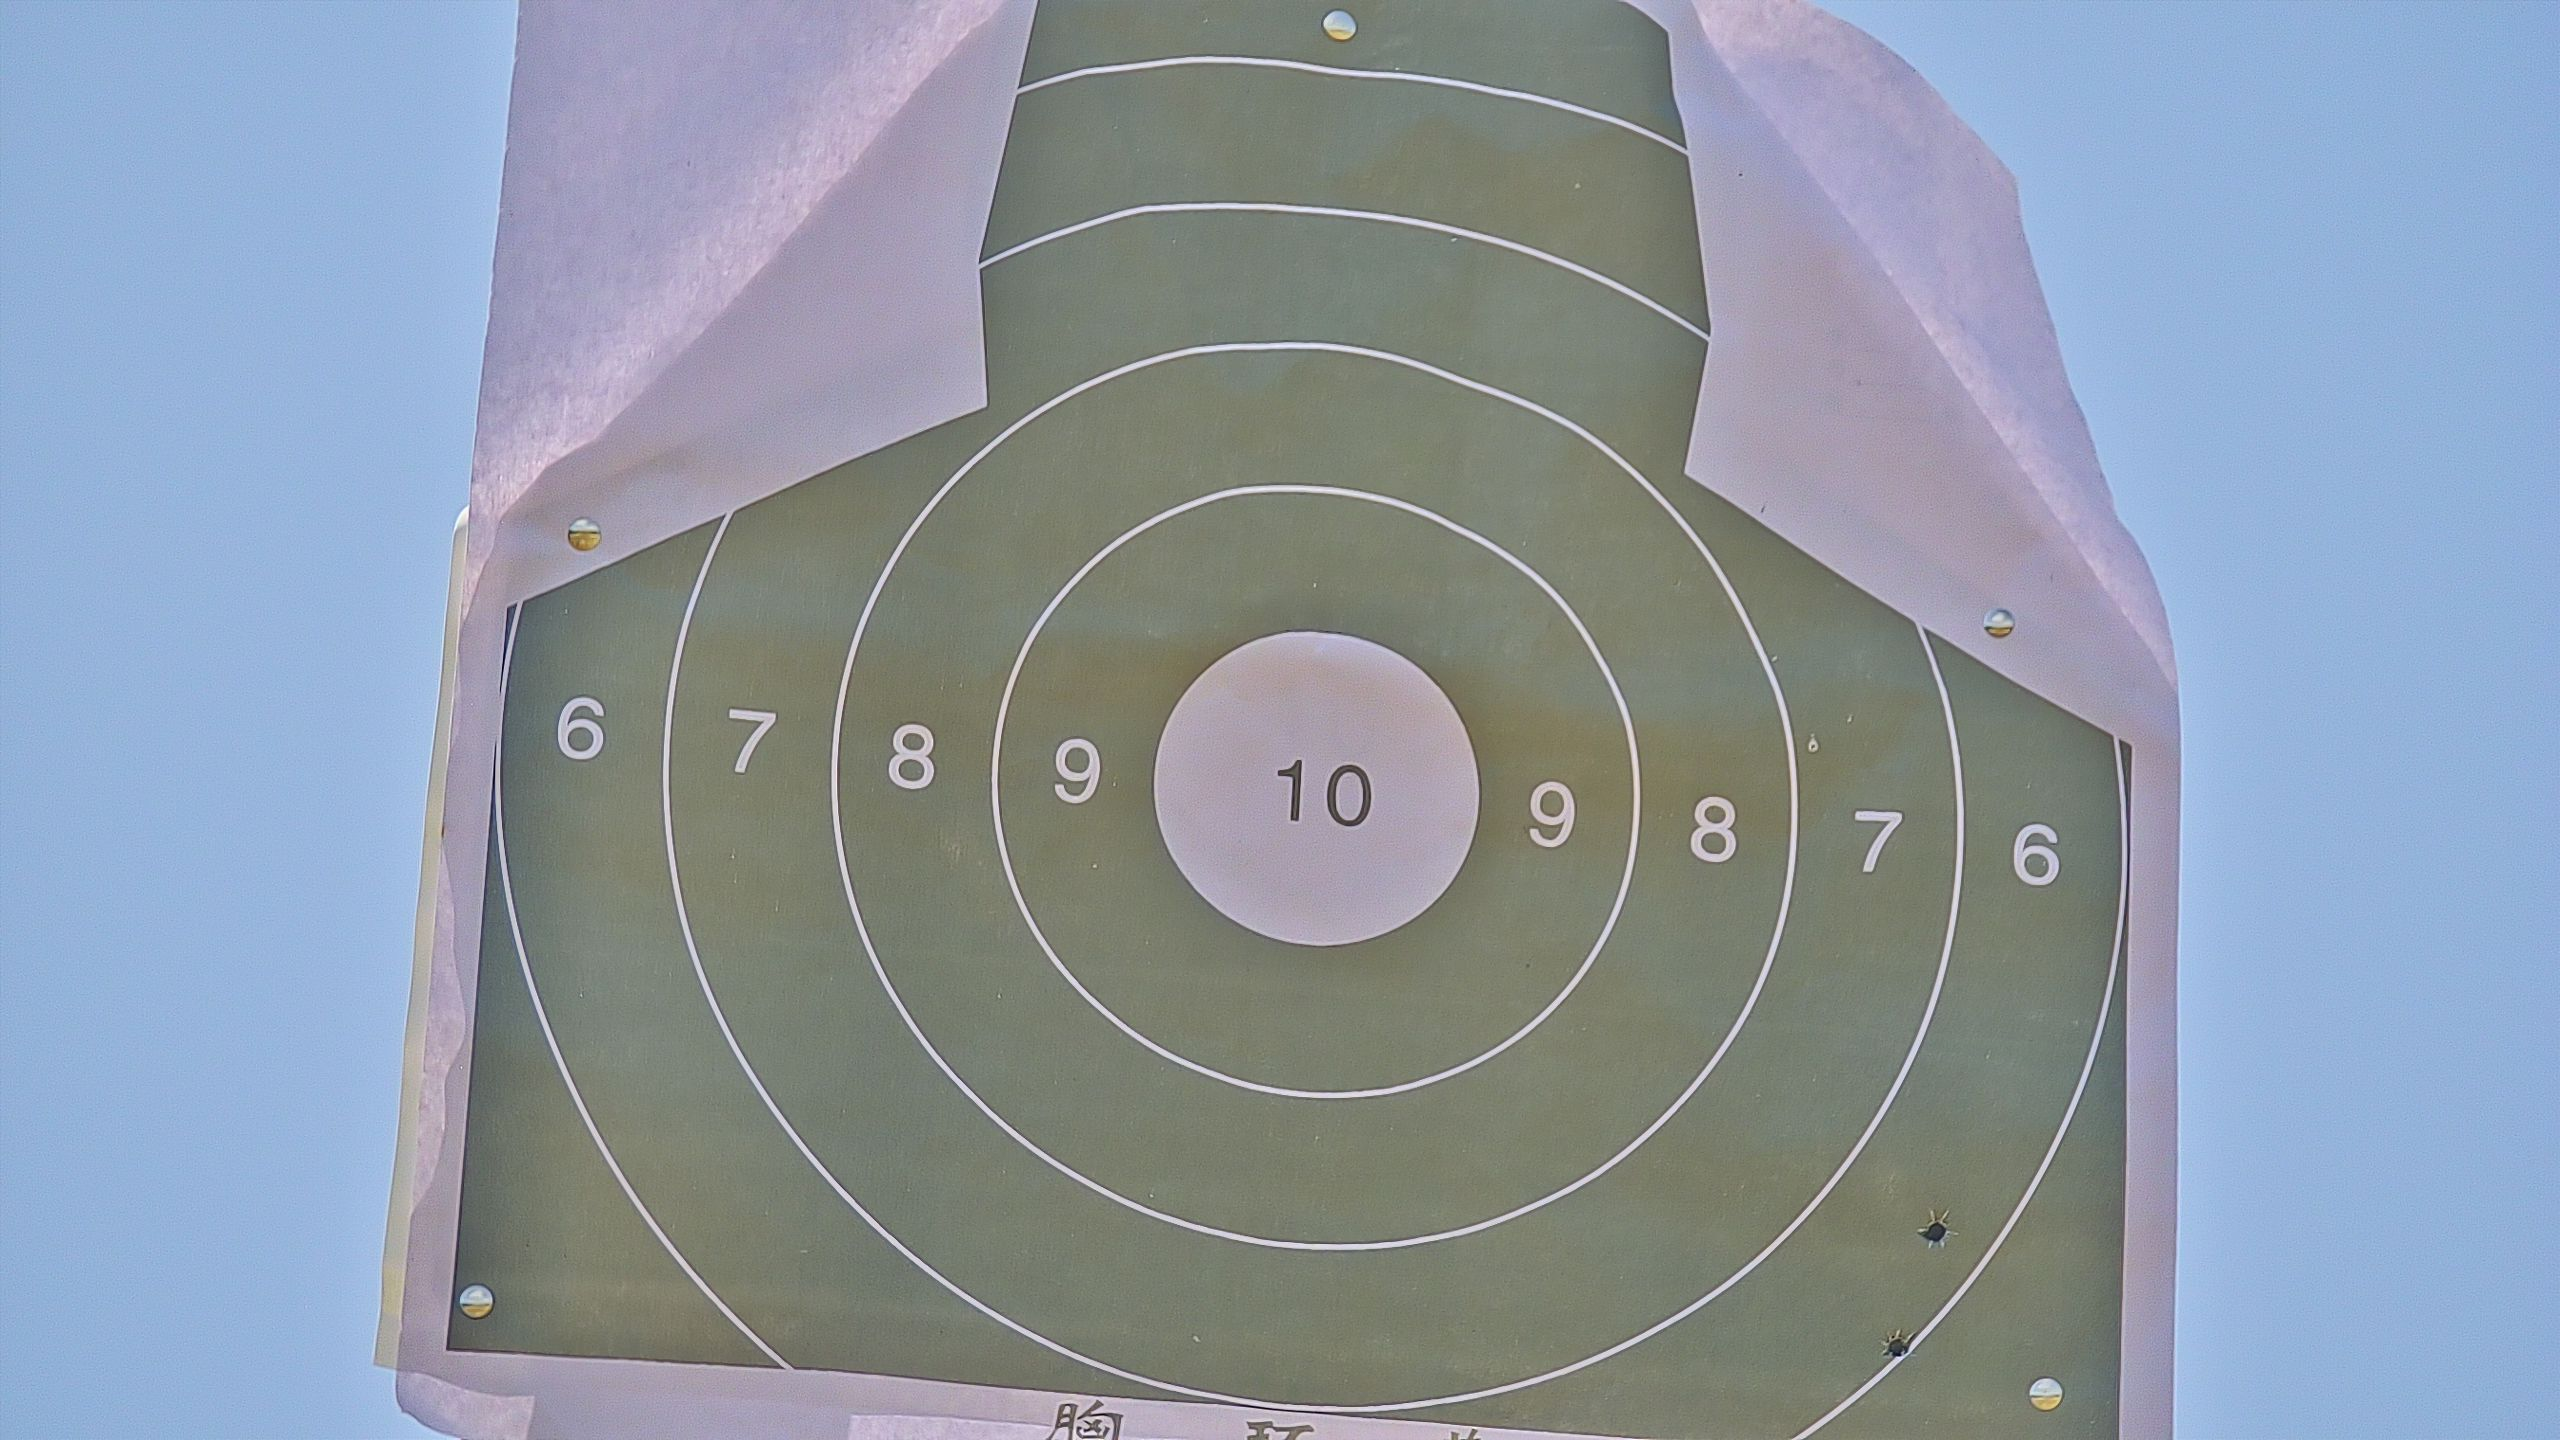kernel: (1308, 788, 1310, 793)
target: (448, 2, 2140, 1440)
ten: (1145, 633, 1482, 944)
